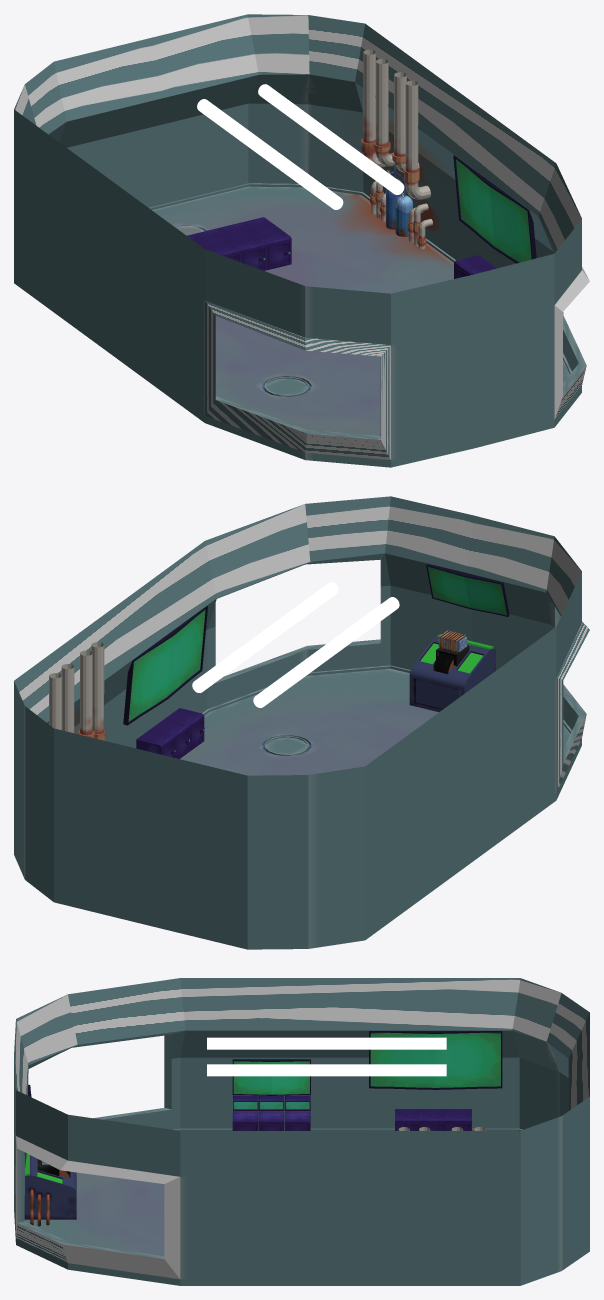
File: 1blend.glb
The picture shows the model from 3 angles, top to bottom: view 1: azimuth 30°, elevation 25°; view 2: azimuth 150°, elevation 25°; view 3: azimuth 270°, elevation 25°; orthographic projection. The views are drawn at different scales.
Visible parts, largest first — view 1: Cube, Cube.010, Cube.006, Cylinder, Cylinder.002, Cube.003, Cube.018, Cube.014; view 2: Cube, Cube.006, Cube.002, Cube.010, Cube.025, Cylinder, Cylinder.002, Cube.022, Cube.024, Cube.023; view 3: Cube, Cube.005, Cylinder, Cylinder.002, Cube.002, Cube.009, Cube.007, Cube.008, Cube.001, Cube.020, Cube.021, Cube.019.
Boxes of the visible parts, x1,y1,x2,y2 form: Cube: (14,14,589,467); Cube.010: (361,49,432,249); Cube.006: (453,155,536,263); Cylinder: (258,84,404,194); Cylinder.002: (197,99,343,209); Cube.003: (386,164,412,236); Cube.018: (253,227,291,270); Cube.014: (228,233,266,270); Cube: (14,496,589,949); Cube.006: (123,606,207,725); Cube.002: (409,630,495,711); Cube.010: (49,642,105,740); Cube.025: (426,564,509,616); Cylinder: (192,582,338,692); Cylinder.002: (253,597,399,707); Cube.022: (136,729,175,757); Cube.024: (165,708,204,751); Cube.023: (151,718,190,758); Cube: (14,978,589,1285); Cube.005: (369,1031,502,1089); Cylinder: (207,1064,446,1076); Cylinder.002: (207,1037,446,1049); Cube.002: (24,1153,76,1226); Cube.009: (232,1059,310,1095); Cube.007: (258,1096,284,1130); Cube.008: (232,1096,258,1130); Cube.001: (285,1096,310,1130); Cube.020: (420,1109,446,1130); Cube.021: (446,1109,471,1130); Cube.019: (395,1109,420,1130).
Size of the model in its own units: 59.49 by 28.87 by 94.73.
Materials: 8 (7 with a texture image).
